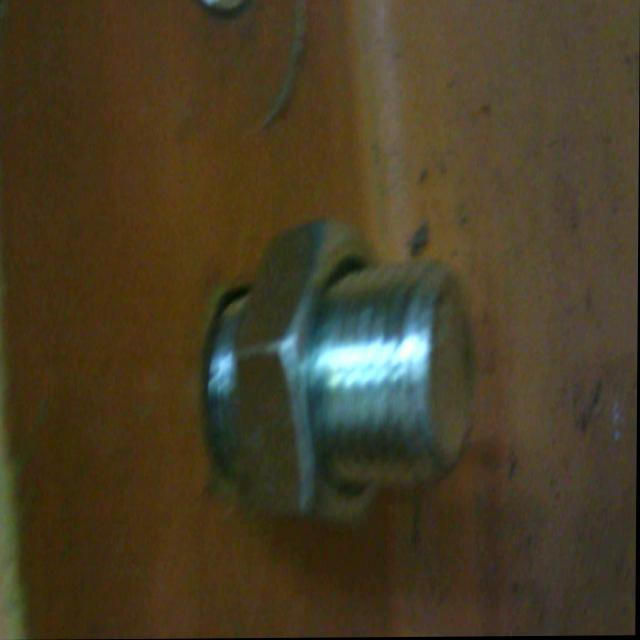Loose bolt: (204, 216, 482, 535)
Regular bolt: (151, 214, 491, 546)
